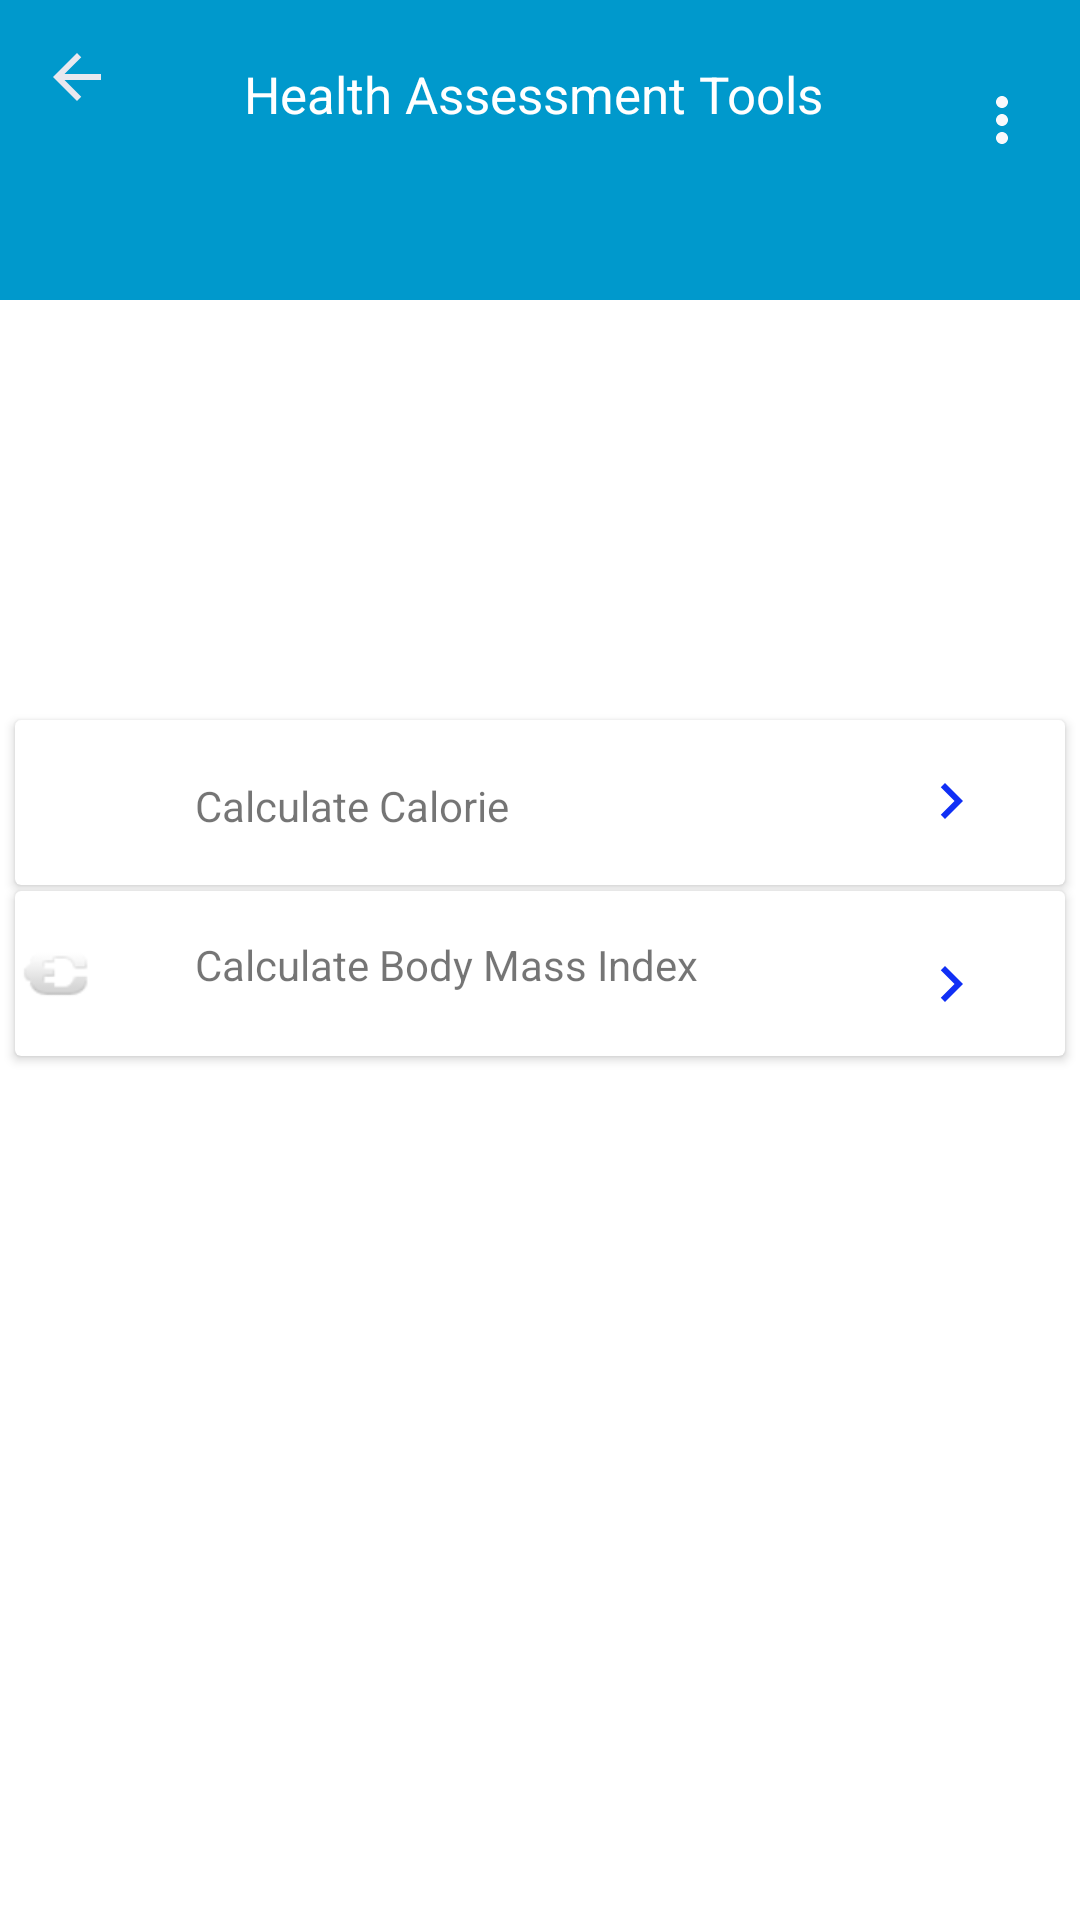

Where to tap for icons on this 1080w x 1920h app screen, as [x,y]:
arrow back: [77,77]
more vert: [1002,120]
navigate next: [952,801], [952,984]
